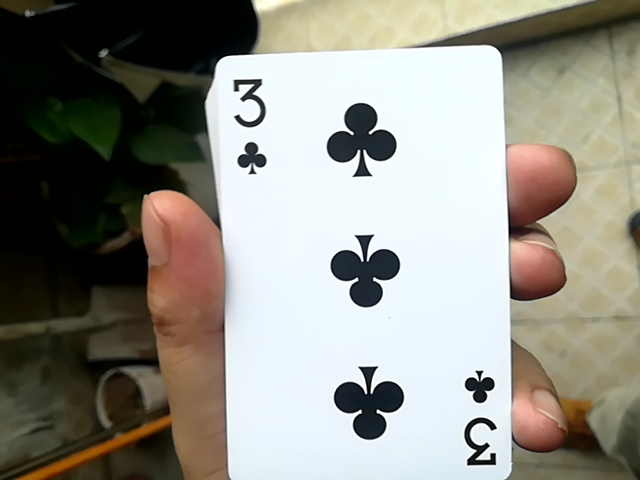mh 3: (185, 54, 515, 478)
